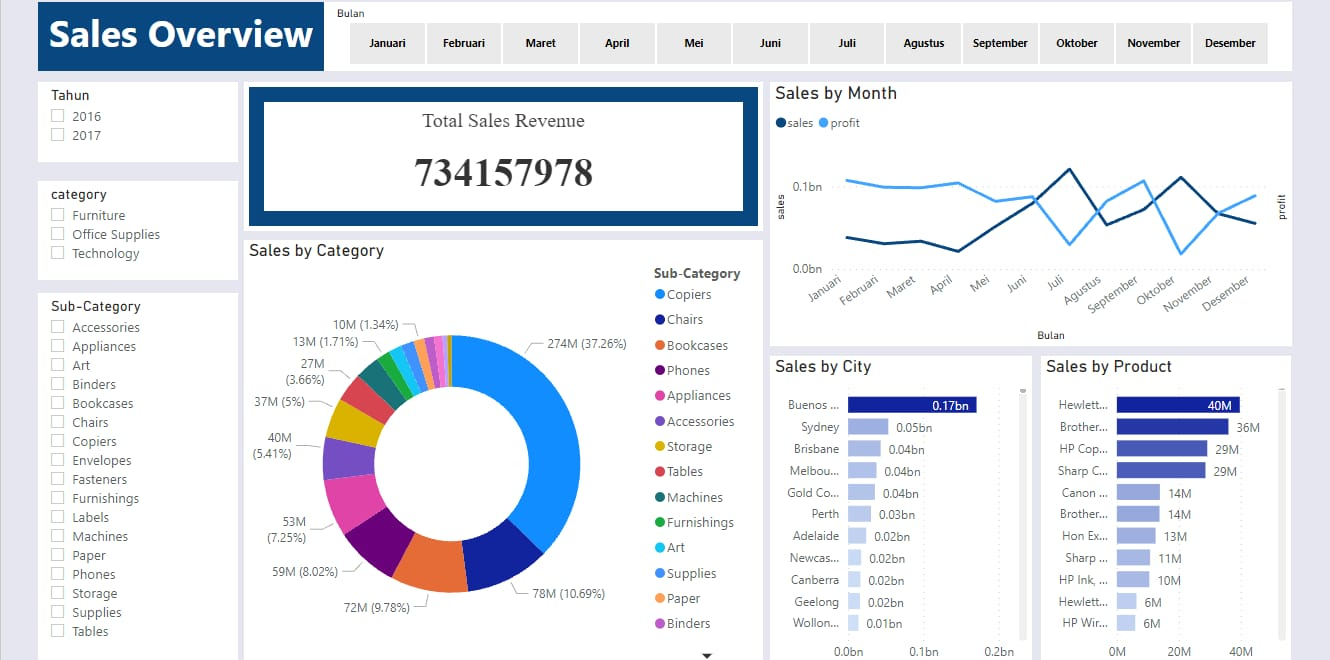

What the dashboard file says about the page in this screenshot:
{"tool":"powerbi","page":{"name":"SO by Revenue","canvas":[1280,720],"ordinal":0},"visuals":[{"type":"textbox","box":[11,26.2,286.3,68.8],"z":0},{"type":"slicer","fields":{"Values":["FACT_CustTrx.category"]},"box":[11,205.1,199.6,99.1],"z":1000},{"type":"lineChart","title":"Sales by Month","fields":{"Category":["FACT_CustTrx.Order Date.Variasi.Hierarki Tanggal.Bulan"],"Y":["Sum(FACT_CustTrx.sales)"],"Y2":["Sum(FACT_CustTrx.profit)"]},"box":[743.2,106,521.6,264.3],"z":2000},{"type":"slicer","fields":{"Values":["FACT_CustTrx.Sub-Category"]},"box":[11,316.6,199.6,377.1],"z":3000},{"type":"slicer","fields":{"Values":["FACT_CustTrx.Order Date.Variasi.Hierarki Tanggal.Tahun"]},"box":[11,106,199.6,79.8],"z":4000},{"type":"slicer","fields":{"Values":["FACT_CustTrx.Order Date.Variasi.Hierarki Tanggal.Bulan"]},"box":[297.3,26.2,967.6,68.8],"z":5000},{"type":"clusteredBarChart","title":"Sales by City","fields":{"Y":["Sum(FACT_CustTrx.sales)"],"Category":["FACT_CustTrx.city"]},"box":[743.2,379.9,261.5,313.8],"z":6000},{"type":"donutChart","title":"Sales by Category","fields":{"Y":["Sum(FACT_CustTrx.sales)"],"Category":["FACT_CustTrx.Sub-Category"]},"box":[217.5,264.3,518.9,429.4],"z":7000},{"type":"clusteredBarChart","title":"Sales by Product","fields":{"Y":["Sum(FACT_CustTrx.sales)"],"Category":["FACT_CustTrx.Product Name"]},"box":[1014.4,379.9,250.5,313.8],"z":8000},{"type":"BBED0A4D4D8D44CE93CF2DAFADEE466C","fields":{"actual":["Sum(FACT_CustTrx.sales)"]},"box":[217.5,106,518.9,148.6],"z":9000}]}

Visuals, with their boxes on the page's 1280x720 design canvas (x1, y1, x2, y2). These are canvas units, not pixel positions in the 1330x660 screenshot, which may show the page scaled, cropped or inside an application window:
textbox: BBox(11, 26, 297, 95)
slicer - FACT_CustTrx.category: BBox(11, 205, 211, 304)
"Sales by Month" lineChart: BBox(743, 106, 1265, 370)
slicer - FACT_CustTrx.Sub-Category: BBox(11, 317, 211, 694)
slicer - FACT_CustTrx.Order Date.Variasi.Hierarki Tanggal.Tahun: BBox(11, 106, 211, 186)
slicer - FACT_CustTrx.Order Date.Variasi.Hierarki Tanggal.Bulan: BBox(297, 26, 1265, 95)
"Sales by City" clusteredBarChart: BBox(743, 380, 1005, 694)
"Sales by Category" donutChart: BBox(218, 264, 736, 694)
"Sales by Product" clusteredBarChart: BBox(1014, 380, 1265, 694)
BBED0A4D4D8D44CE93CF2DAFADEE466C - Sum(FACT_CustTrx.sales): BBox(218, 106, 736, 255)
